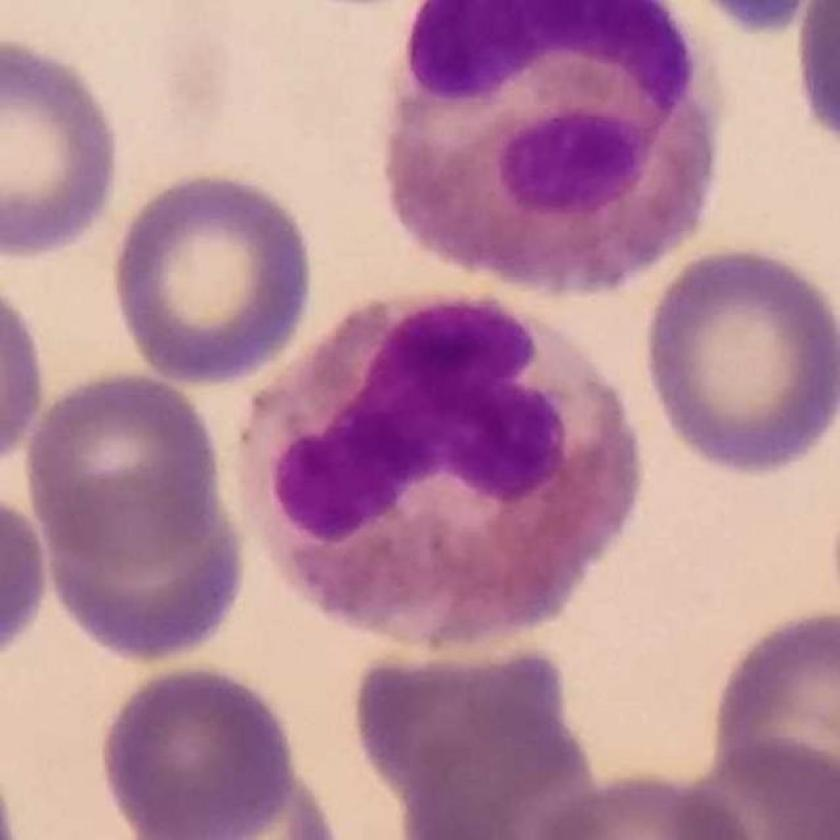eosinophil: (228, 287, 644, 653), (381, 1, 724, 288)
